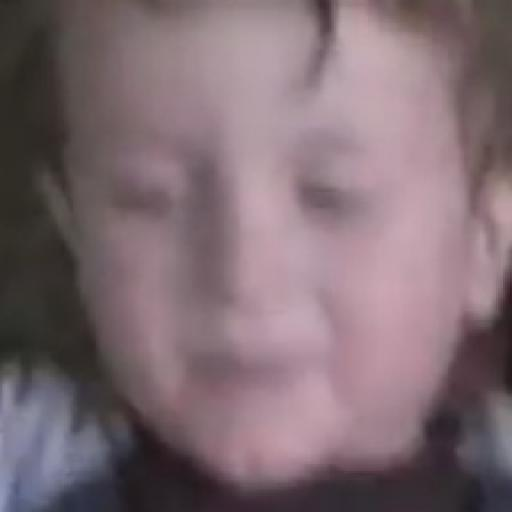Autism: (55, 0, 512, 505)
